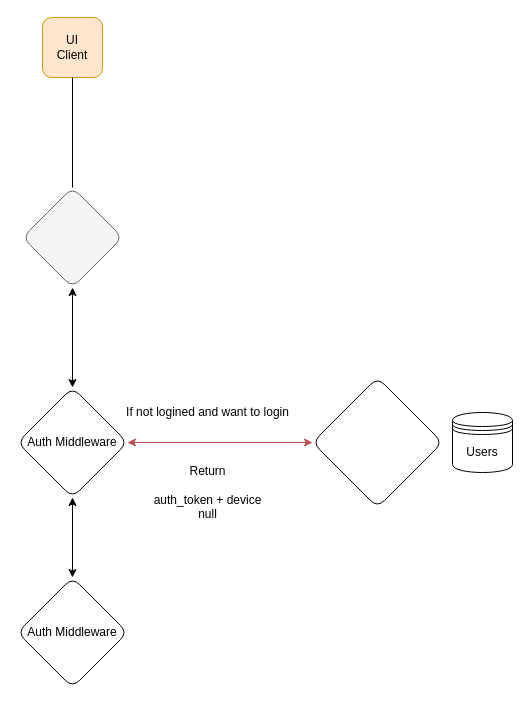
Image size: 530x705. Some labels were removed from this diagram. The shapes that lost their labels are listed below. From the top down, each one's centre as x and y in pixels, then its label:
At [72,237]: "Api-composer".
At [377,442]: "Auth service".
